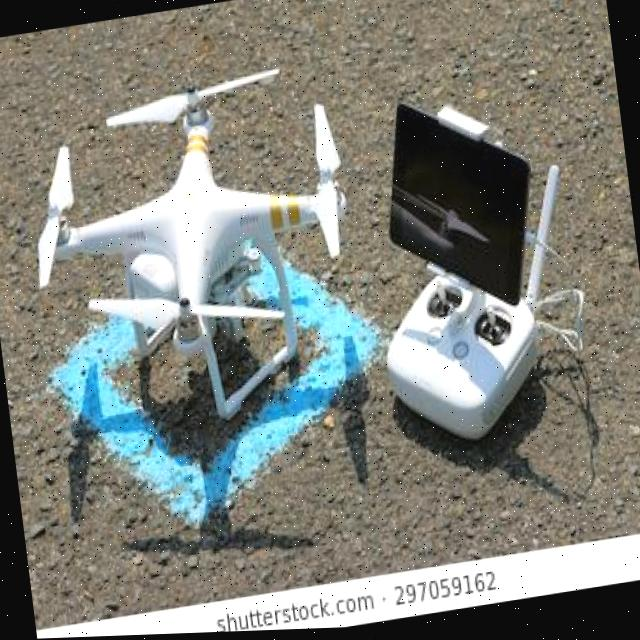drone: (5, 47, 382, 450)
